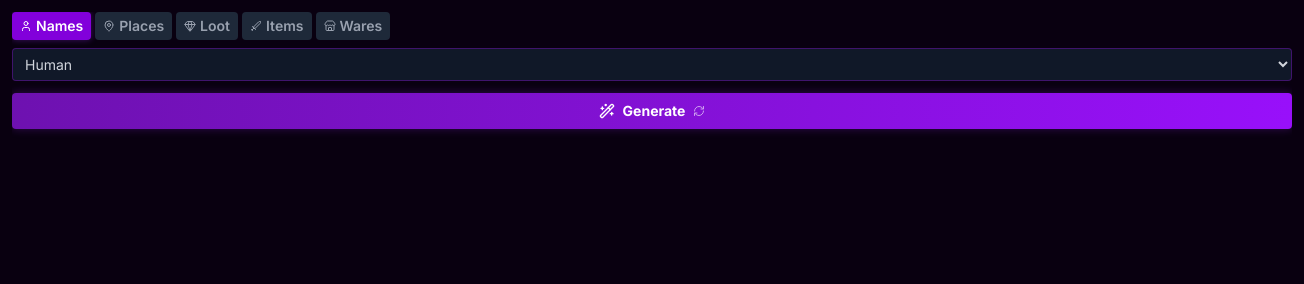
Test case: OracleWidget — Wares tab › rolls 3-5 distinct priced items and renders each as its own row
Step 1. Click the button "Wares" → (353, 26), box [316,12,390,40]
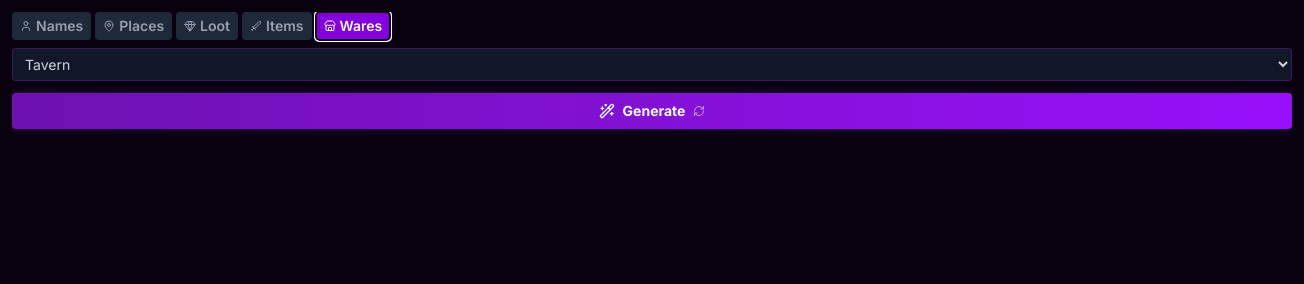
Step 2. Click the button "Generate" → (652, 111), box [12,93,1292,129]
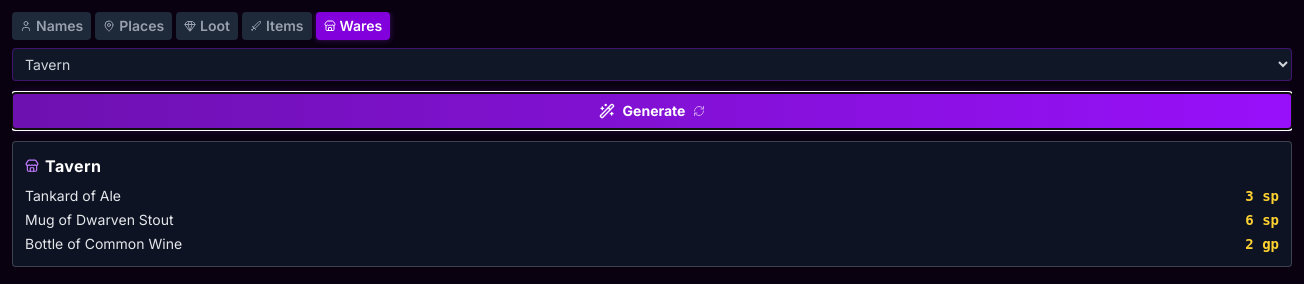
Result: the text "Tavern" is shown at [45,154,101,178]
Result: the text "Tankard of Ale" is shown at [25,186,121,206]
Result: the text "3 sp" is shown at [1245,186,1279,206]
